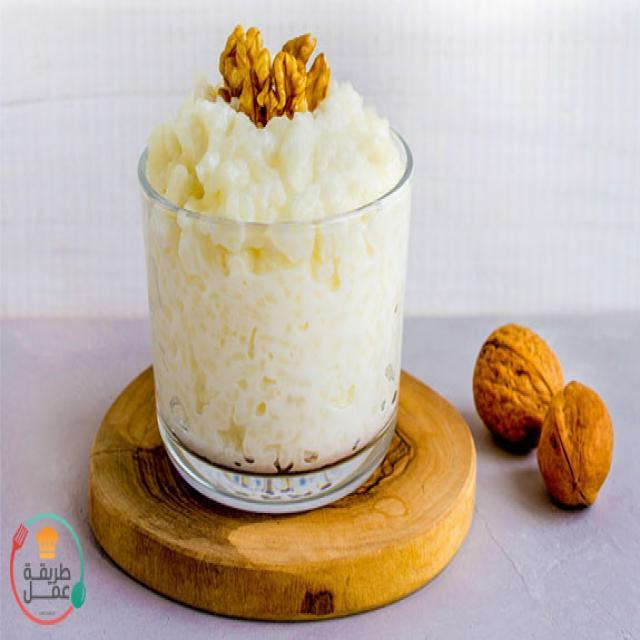roz blabn: (125, 30, 415, 520)
